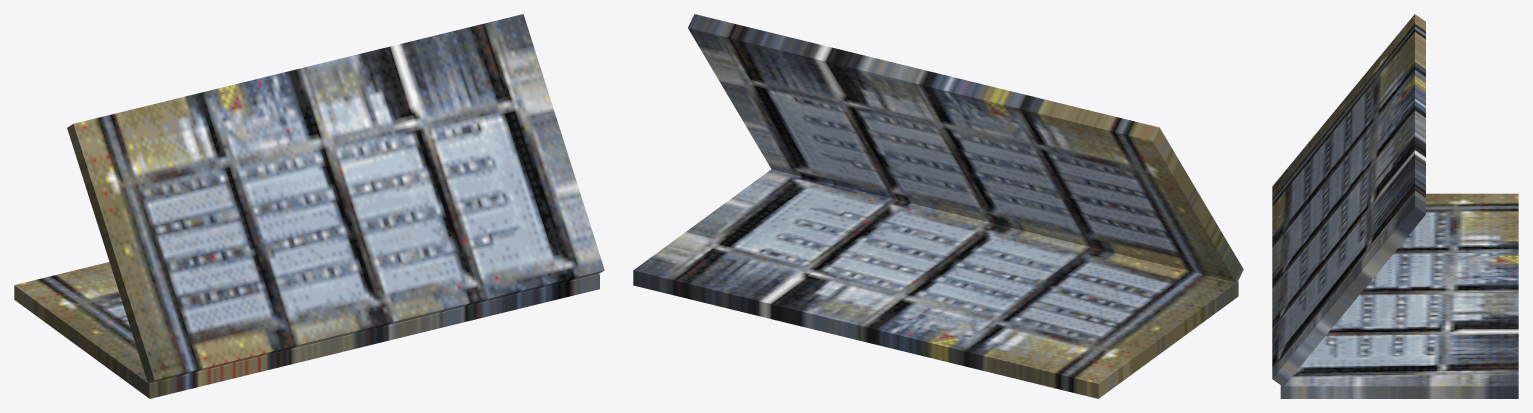
Rendered from steigerhout.fbx.
3 views of the same model, side by side, from view 1: azimuth 30°, elevation 25°; view 2: azimuth 150°, elevation 25°; view 3: azimuth 270°, elevation 25° (orthographic). The views are drawn at different scales.
Visible parts, largest first — view 1: Plane.110, Plane.109; view 2: Plane.109, Plane.110; view 3: Plane.109, Plane.110.
Boxes of the visible parts, x1,y1,x2,y2 form: Plane.110: (67,14,604,383); Plane.109: (14,262,599,398); Plane.109: (633,169,1238,398); Plane.110: (688,14,1243,282); Plane.109: (1280,193,1518,398); Plane.110: (1272,14,1425,386).
Size of the model in its own units: 267 by 124 by 144.
